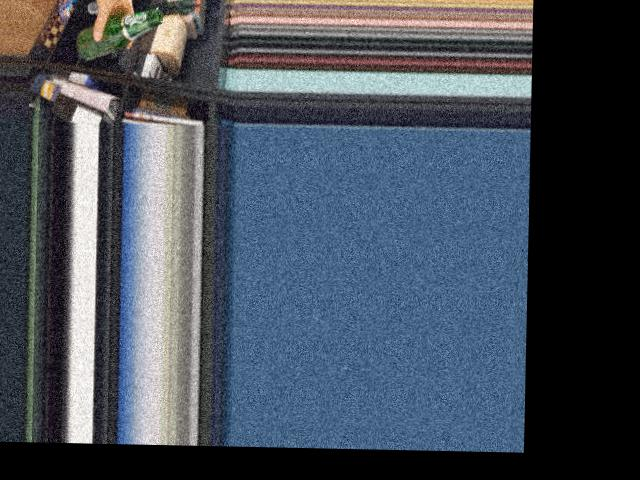beer: (75, 6, 162, 63)
